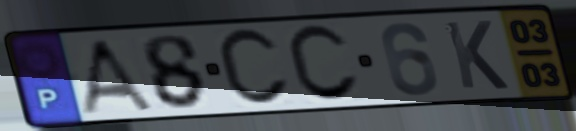6: (377, 20, 441, 98)
8: (138, 32, 211, 111)
A: (76, 37, 159, 116)
C: (283, 22, 364, 106), (214, 26, 294, 110)
K: (440, 18, 513, 92)
